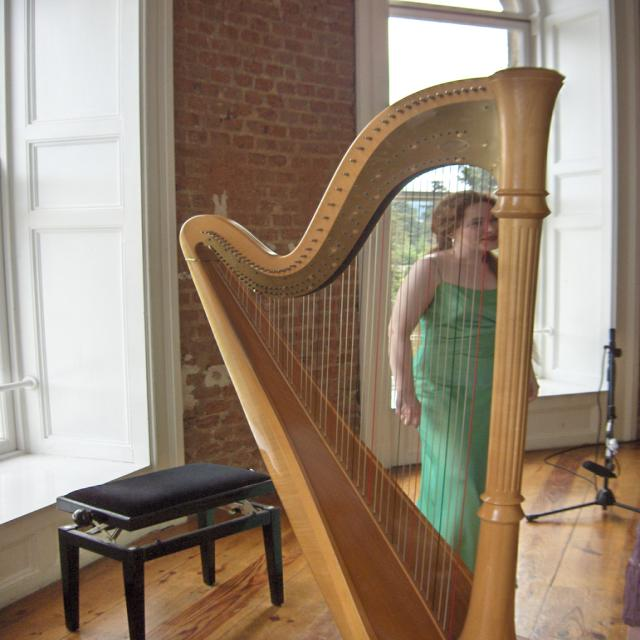harp: (163, 55, 563, 640)
